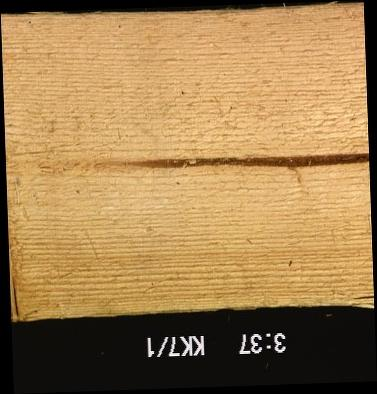split: (350, 293, 374, 301)
